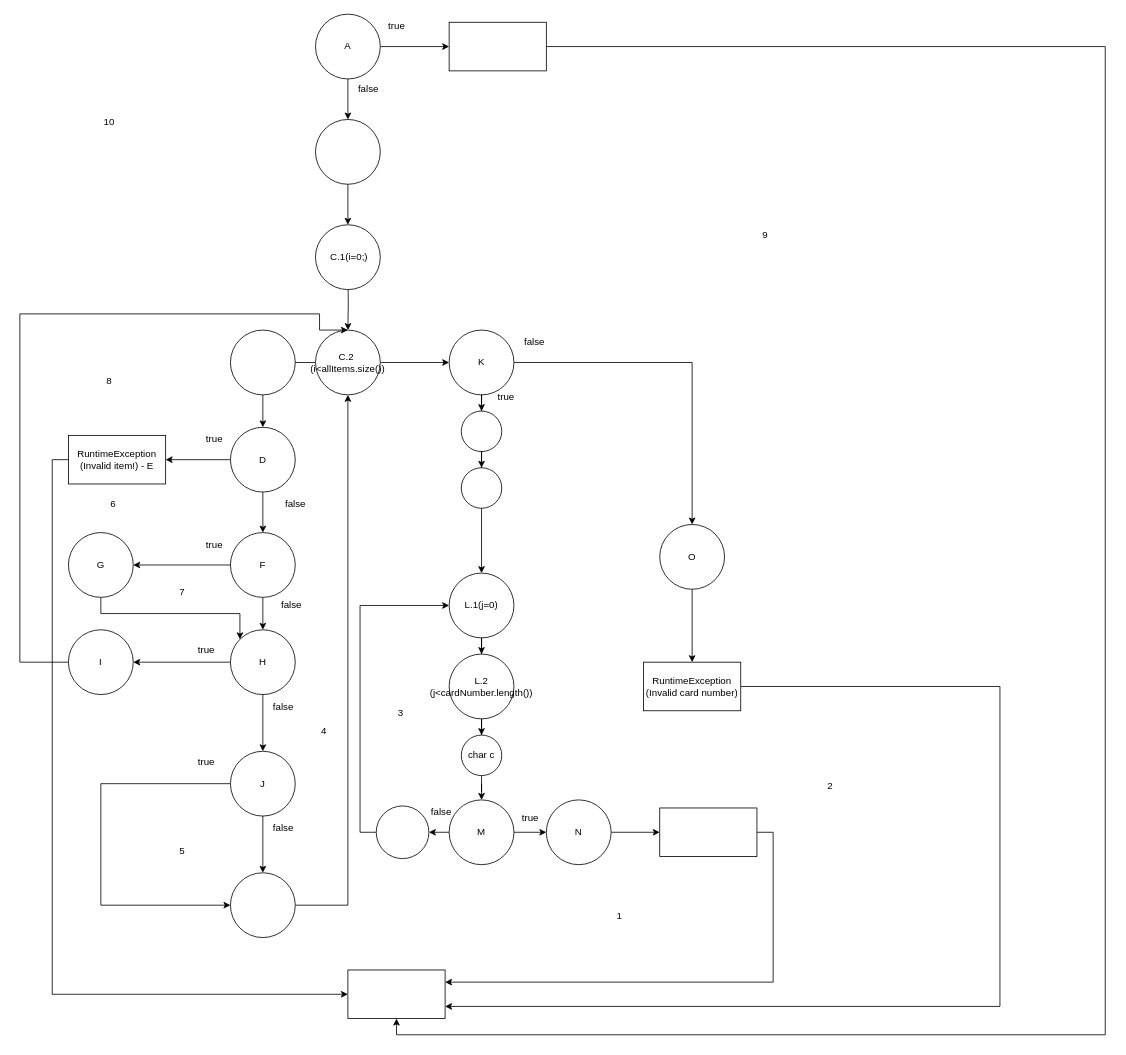
This 1126x1055 diagram has some shape labels left out. Here are the shapes that lost their labels. From the top down, the box of each, then its label:
(448, 21, 546, 71): RuntimeException - B
(315, 119, 380, 184): sum=0
(230, 329, 295, 395): Item item= allItems.get(i)
(460, 410, 502, 452): string allowed
(460, 467, 502, 508): char[]chars
(375, 805, 429, 859): L.3(j++)
(659, 807, 757, 857): RuntimeException (Invalid character in card number)
(230, 872, 295, 938): C.3(i++)
(347, 969, 445, 1019): END
